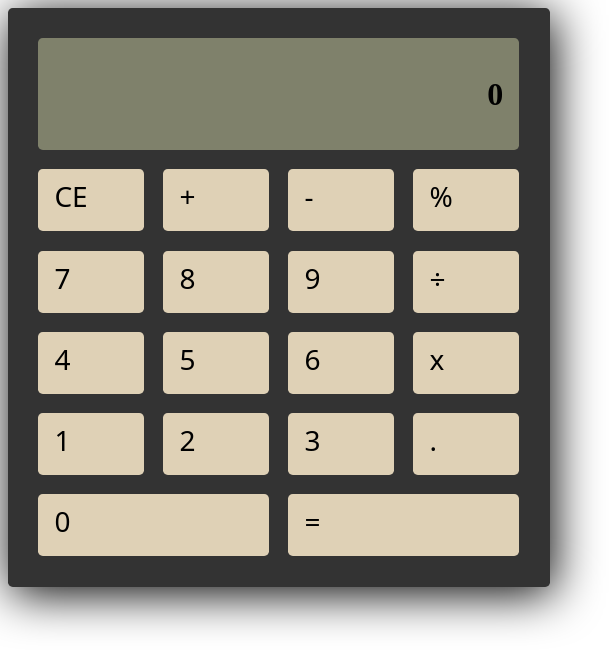
Calculator › resets when CE is clicked
Click the button "7" at x=91, y=282, box [38,251,144,313]
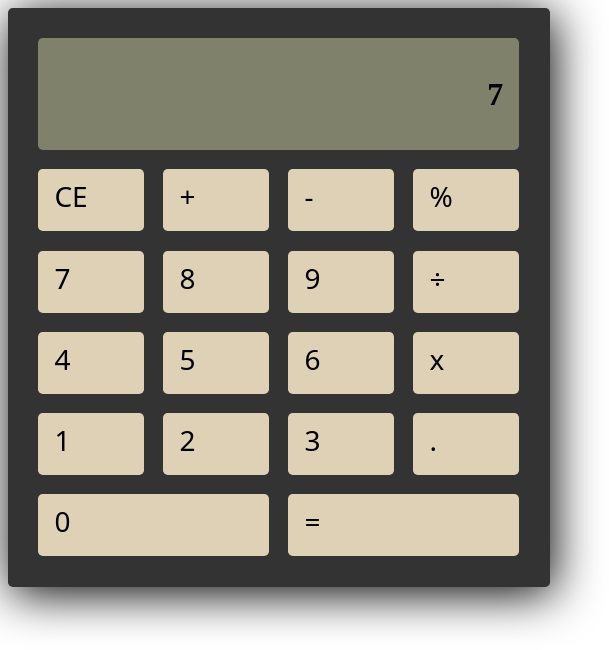
Click the button "7" at x=91, y=282, box [38,251,144,313]
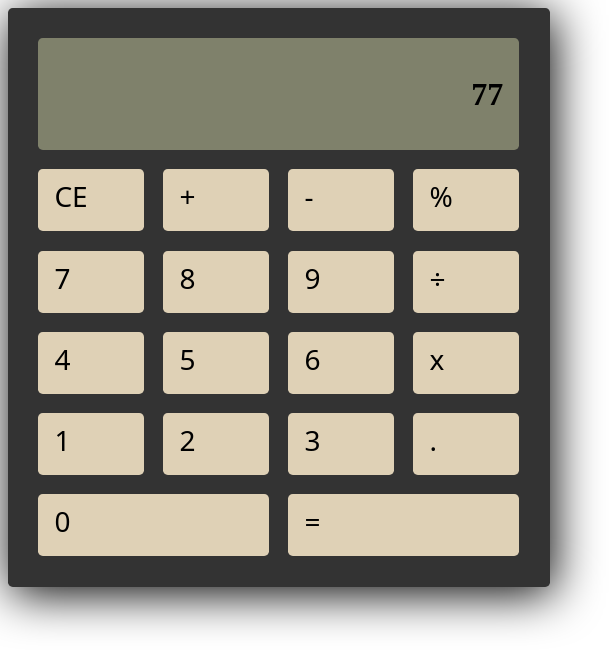
Click the button "7" at x=91, y=282, box [38,251,144,313]
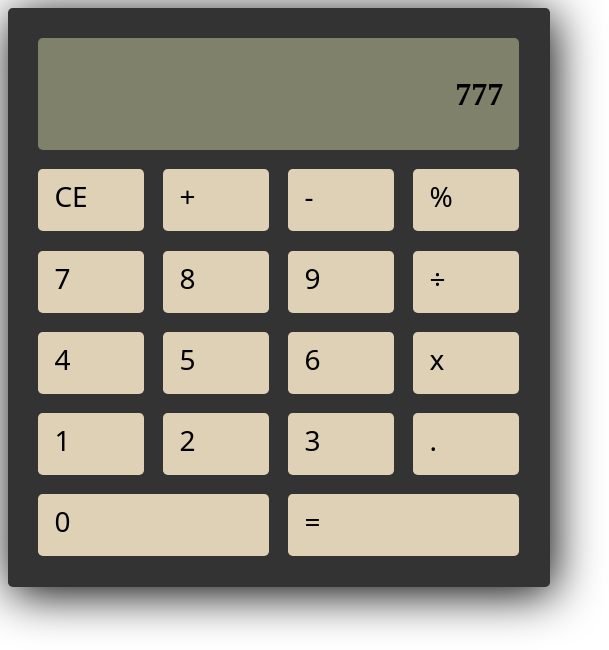
Result: the heading "0" reads "777" at [455,76,503,112]
Click the button "CE" at x=91, y=200, box [38,170,144,232]
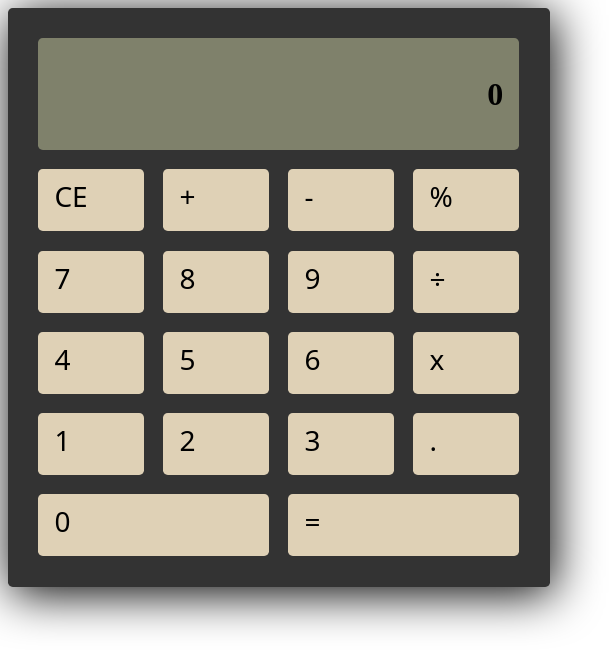
Result: the heading "0" is shown at [487,76,503,113]
